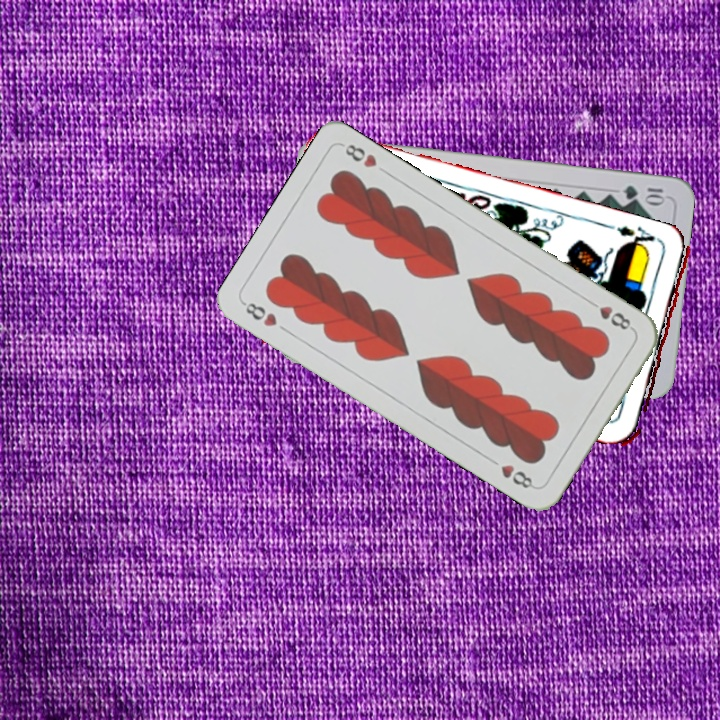EA: (608, 221, 666, 255)
G10: (620, 181, 667, 205)
H8: (583, 296, 636, 333), (239, 297, 280, 330)
